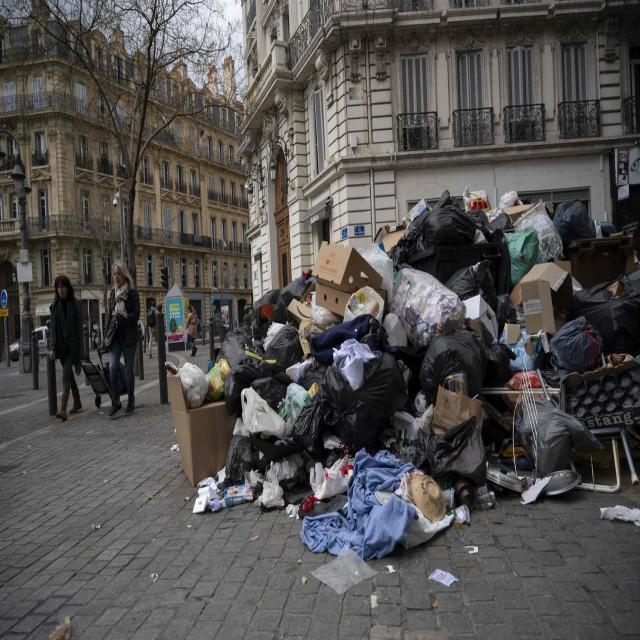Trashbag: (311, 346, 403, 430), (225, 423, 322, 490), (421, 435, 500, 496), (524, 405, 594, 473), (552, 310, 600, 388), (412, 207, 465, 275), (229, 344, 289, 404), (593, 281, 636, 343), (547, 192, 600, 241), (259, 318, 308, 360), (459, 258, 488, 296), (257, 283, 288, 315), (290, 281, 312, 306)
